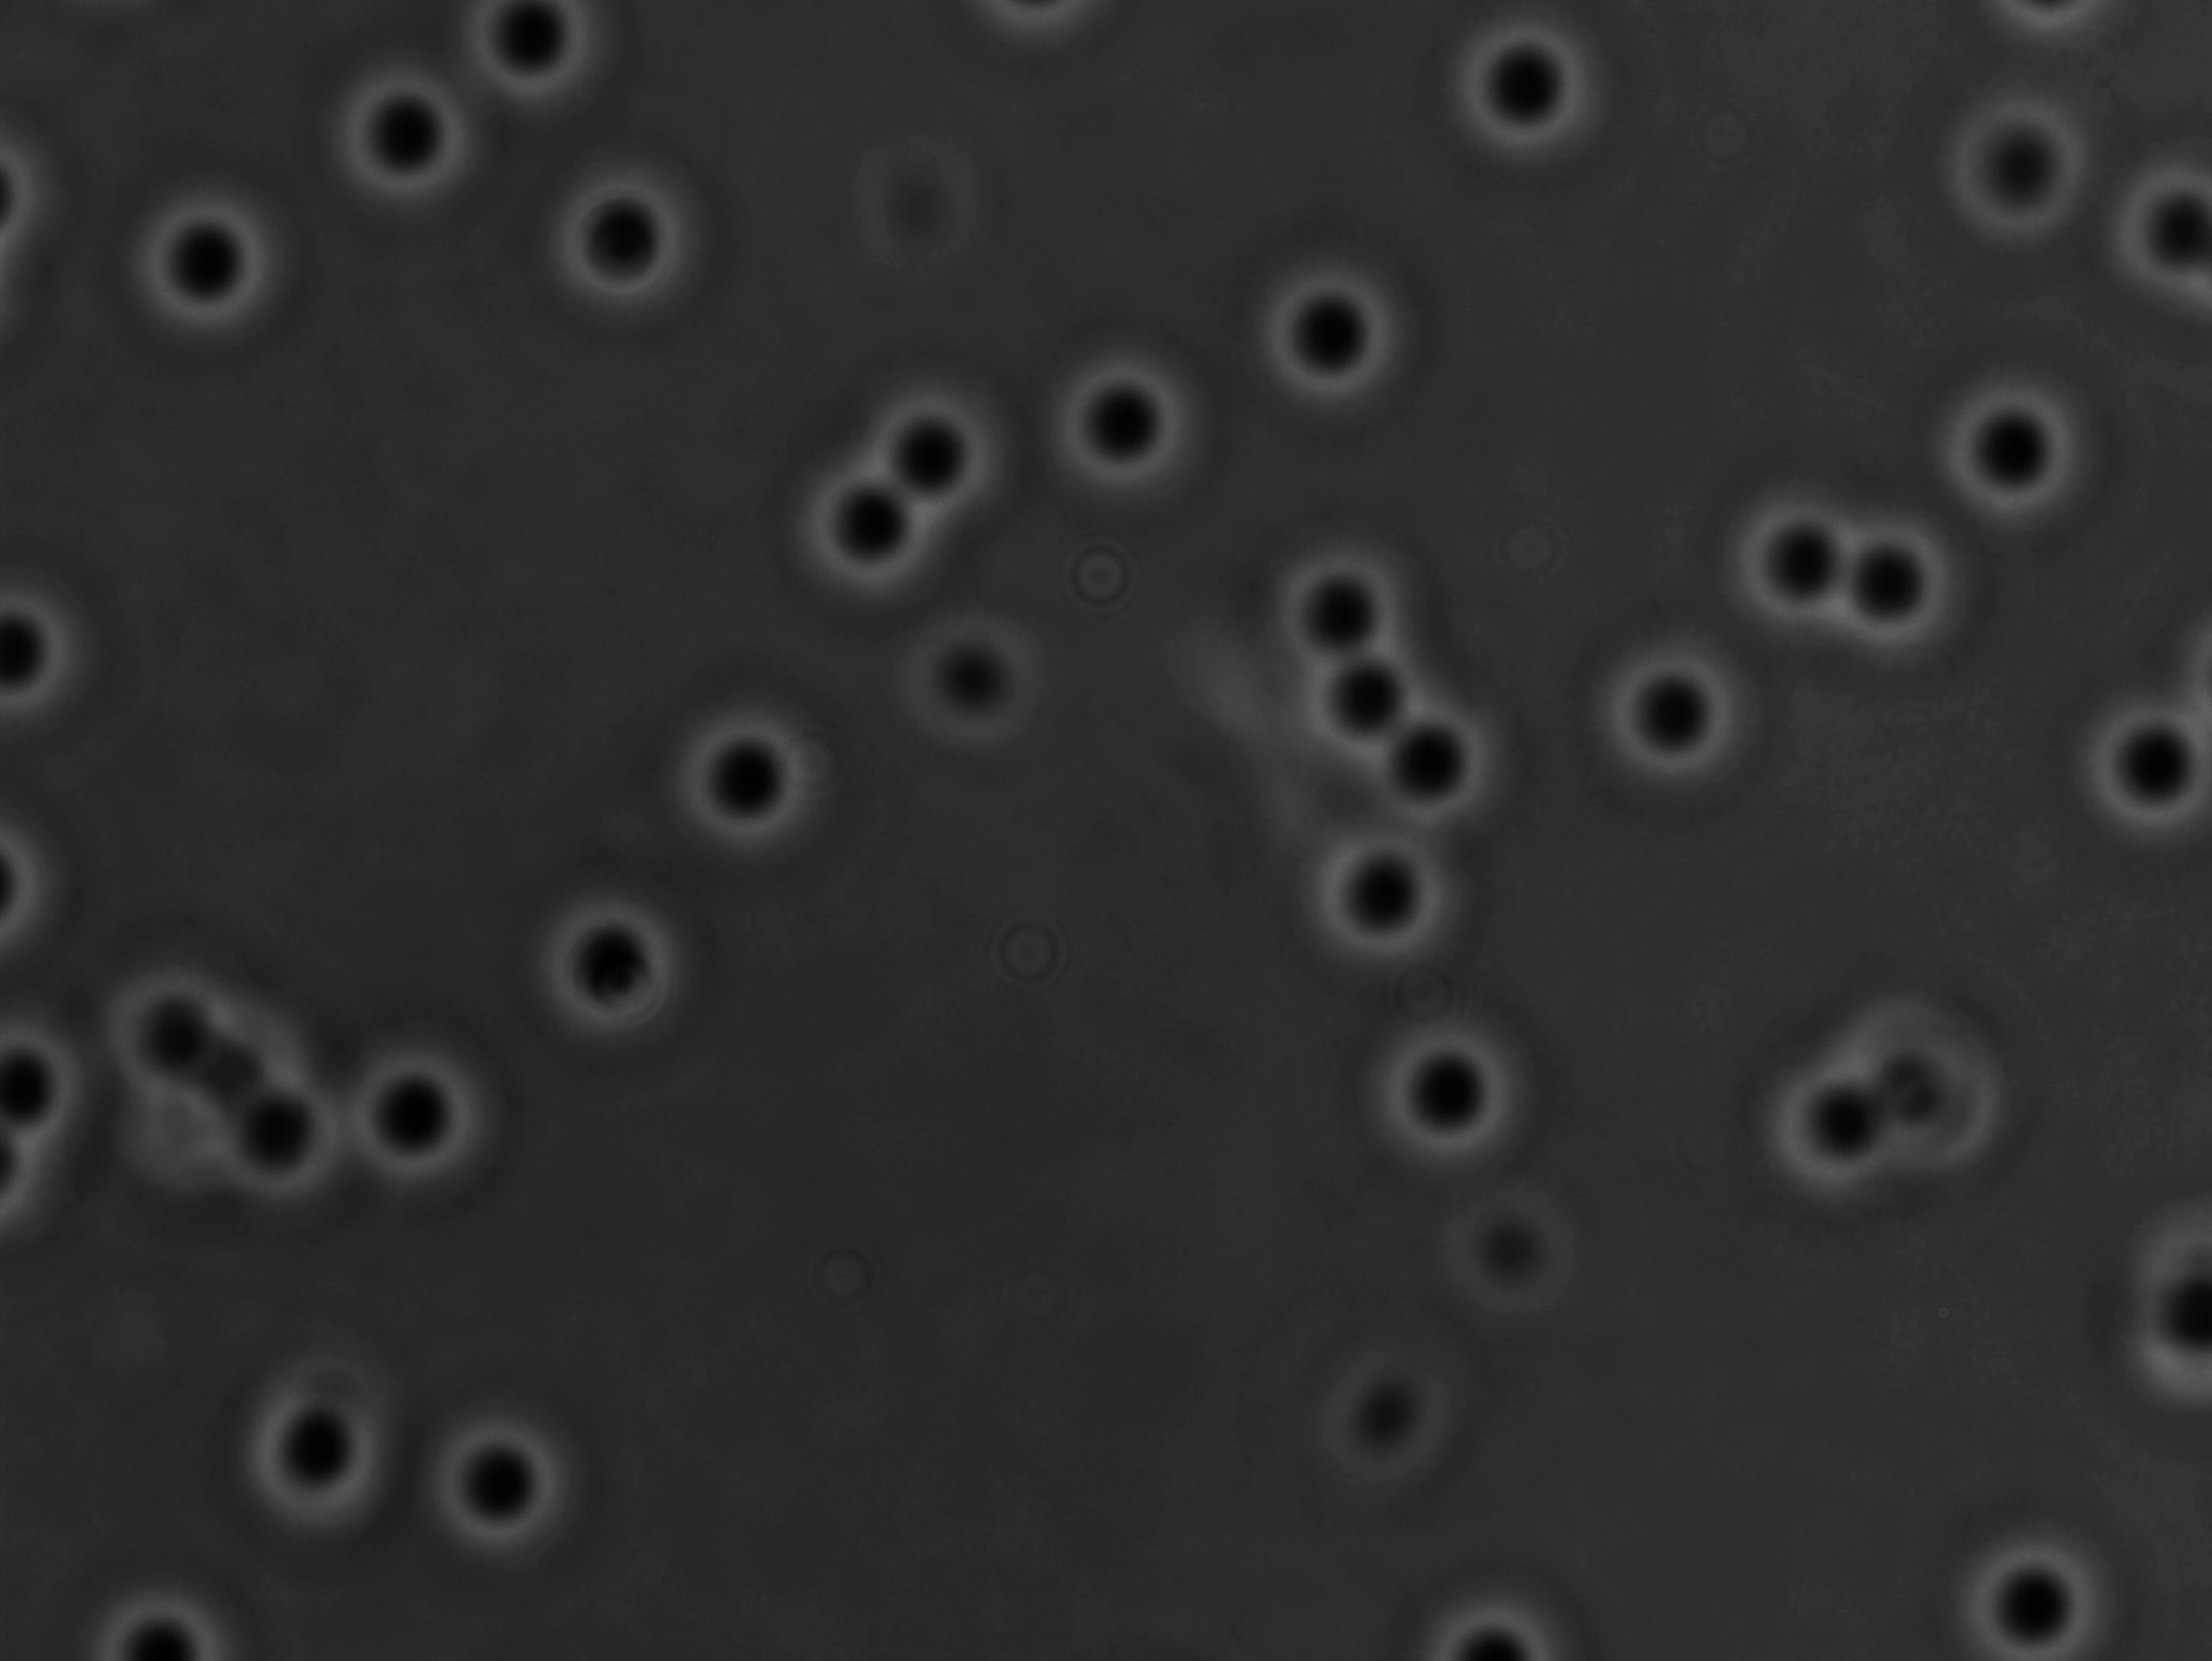depth:-80: (1895, 328, 2130, 564), (1713, 450, 1931, 665), (1348, 981, 1574, 1188), (410, 1377, 628, 1584), (652, 680, 870, 886), (1793, 490, 2013, 694), (1280, 792, 1504, 993), (1570, 625, 1788, 827), (324, 1005, 539, 1209), (1919, 61, 2133, 265), (1209, 227, 1410, 440), (509, 865, 726, 1063), (312, 30, 520, 232), (534, 136, 743, 333), (1246, 492, 1455, 686), (1415, 3, 1626, 195), (1282, 593, 1493, 785), (755, 419, 956, 609), (1022, 330, 1214, 523), (117, 167, 314, 354), (841, 366, 1043, 546), (227, 1345, 420, 1530), (1338, 672, 1539, 848), (1943, 1506, 2165, 1661), (2064, 670, 2212, 876)
